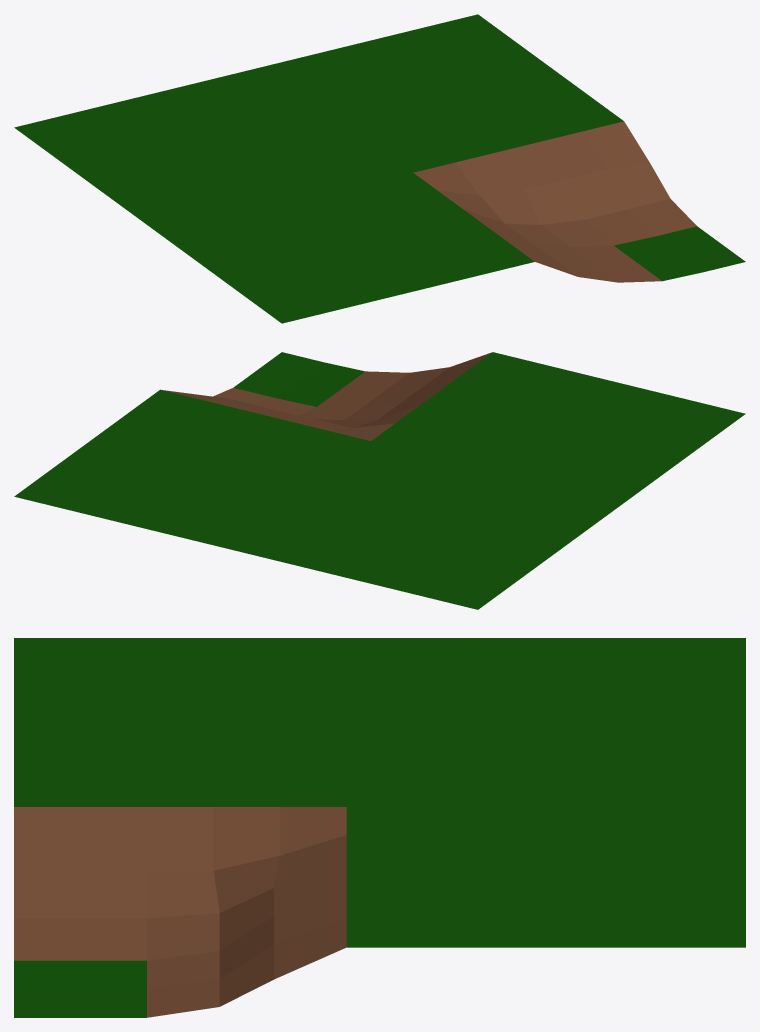
File: Canto.fbx
3 views of the same model, one above another, from view 1: azimuth 30°, elevation 25°; view 2: azimuth 150°, elevation 25°; view 3: azimuth 270°, elevation 25° (orthographic). The views are drawn at different scales.
Parts seen in each view (by area): view 1: Plane; view 2: Plane; view 3: Plane.
Boxes of the visible parts, box(x1,y1,x2,y2) form: Plane: box(14, 14, 745, 323); Plane: box(14, 352, 745, 609); Plane: box(14, 638, 745, 1017).
Size of the model in its own units: 2000 by 212 by 2000.
